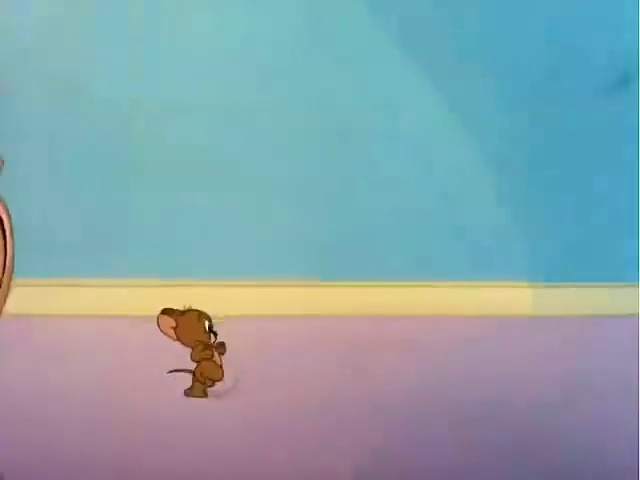jerry: (139, 284, 272, 410)
